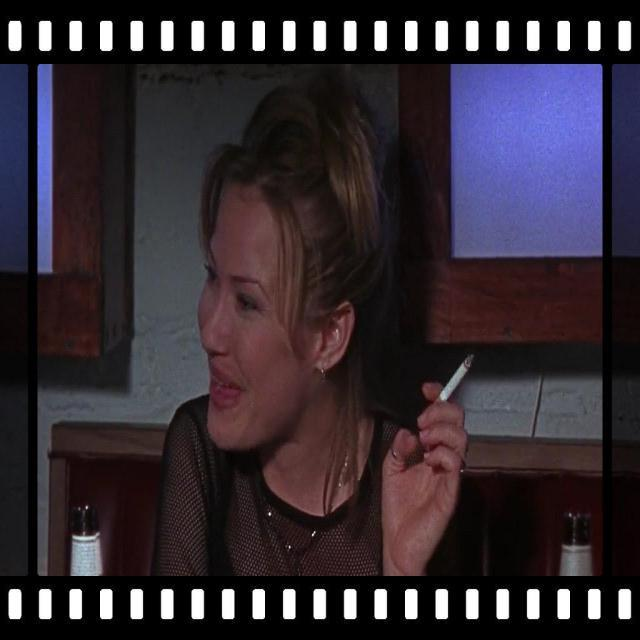cigarette: (420, 327, 493, 429)
